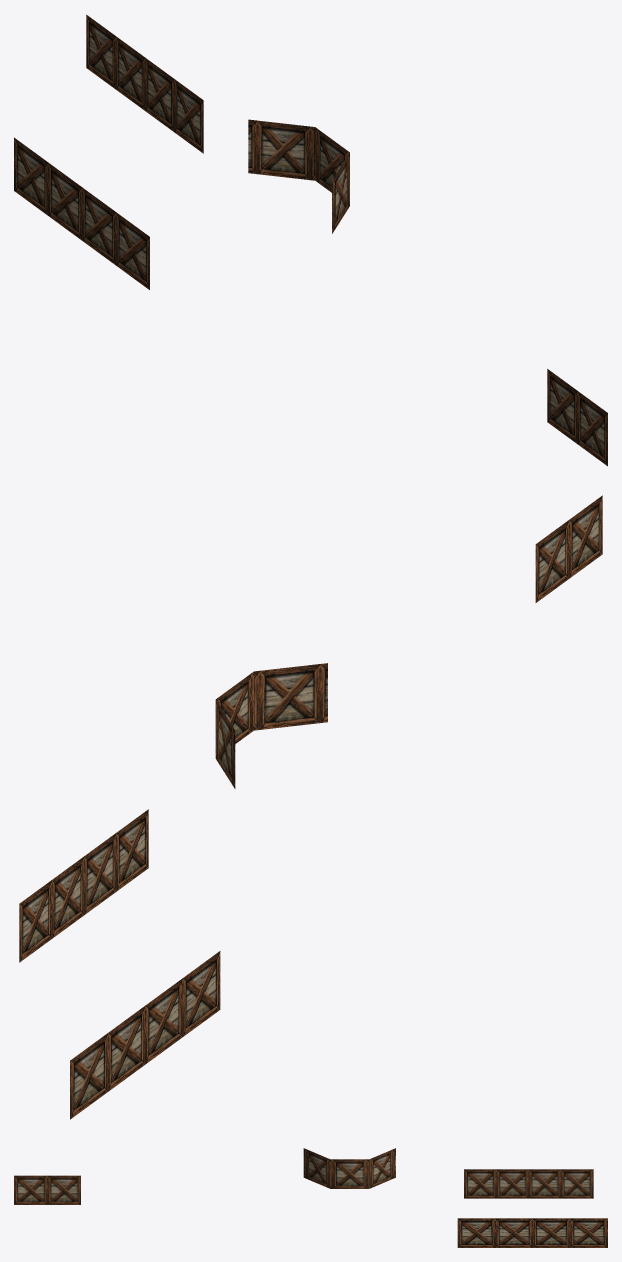
Rendered from LAKETOWN_EXTERIOR_PS_LT_PANELS092191.fbx.
3 views of the same model, one above another, from view 1: azimuth 30°, elevation 25°; view 2: azimuth 150°, elevation 25°; view 3: azimuth 270°, elevation 25° (orthographic). The views are drawn at different scales.
Parts seen in each view (by area): view 1: LAKETOWN_EXTERIOR_PS_LT_PANELS092191; view 2: LAKETOWN_EXTERIOR_PS_LT_PANELS092191; view 3: LAKETOWN_EXTERIOR_PS_LT_PANELS092191.
Part boxes in pixels (x1,y1,x2,y2): LAKETOWN_EXTERIOR_PS_LT_PANELS092191: (14, 14, 607, 466); LAKETOWN_EXTERIOR_PS_LT_PANELS092191: (19, 495, 602, 1119); LAKETOWN_EXTERIOR_PS_LT_PANELS092191: (14, 1148, 607, 1247).
Size of the model in its own units: 16944 by 38550 by 186519.
Materials: 1 (1 with a texture image).
